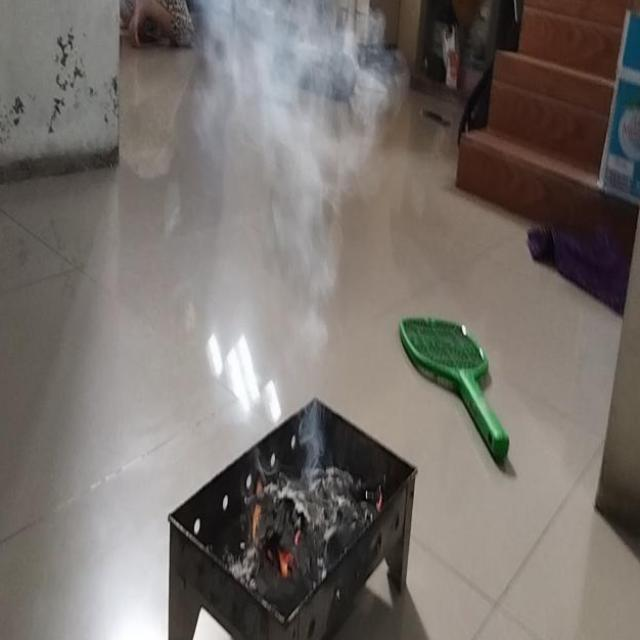fire: (206, 2, 374, 198), (260, 201, 345, 476)
